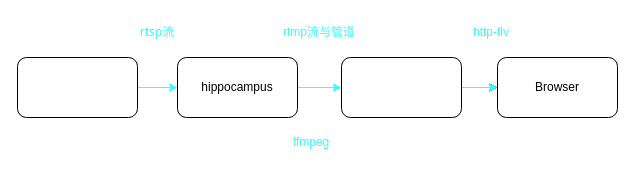
The diagram is 635 pixels wide and 174 high, and some of its shapes have lost their labels. Here are the shapes that lost their labels. From the top down, the centre of each, then its label:
At [77,87]: "摄像头".
At [401,87]: "lalserver".
